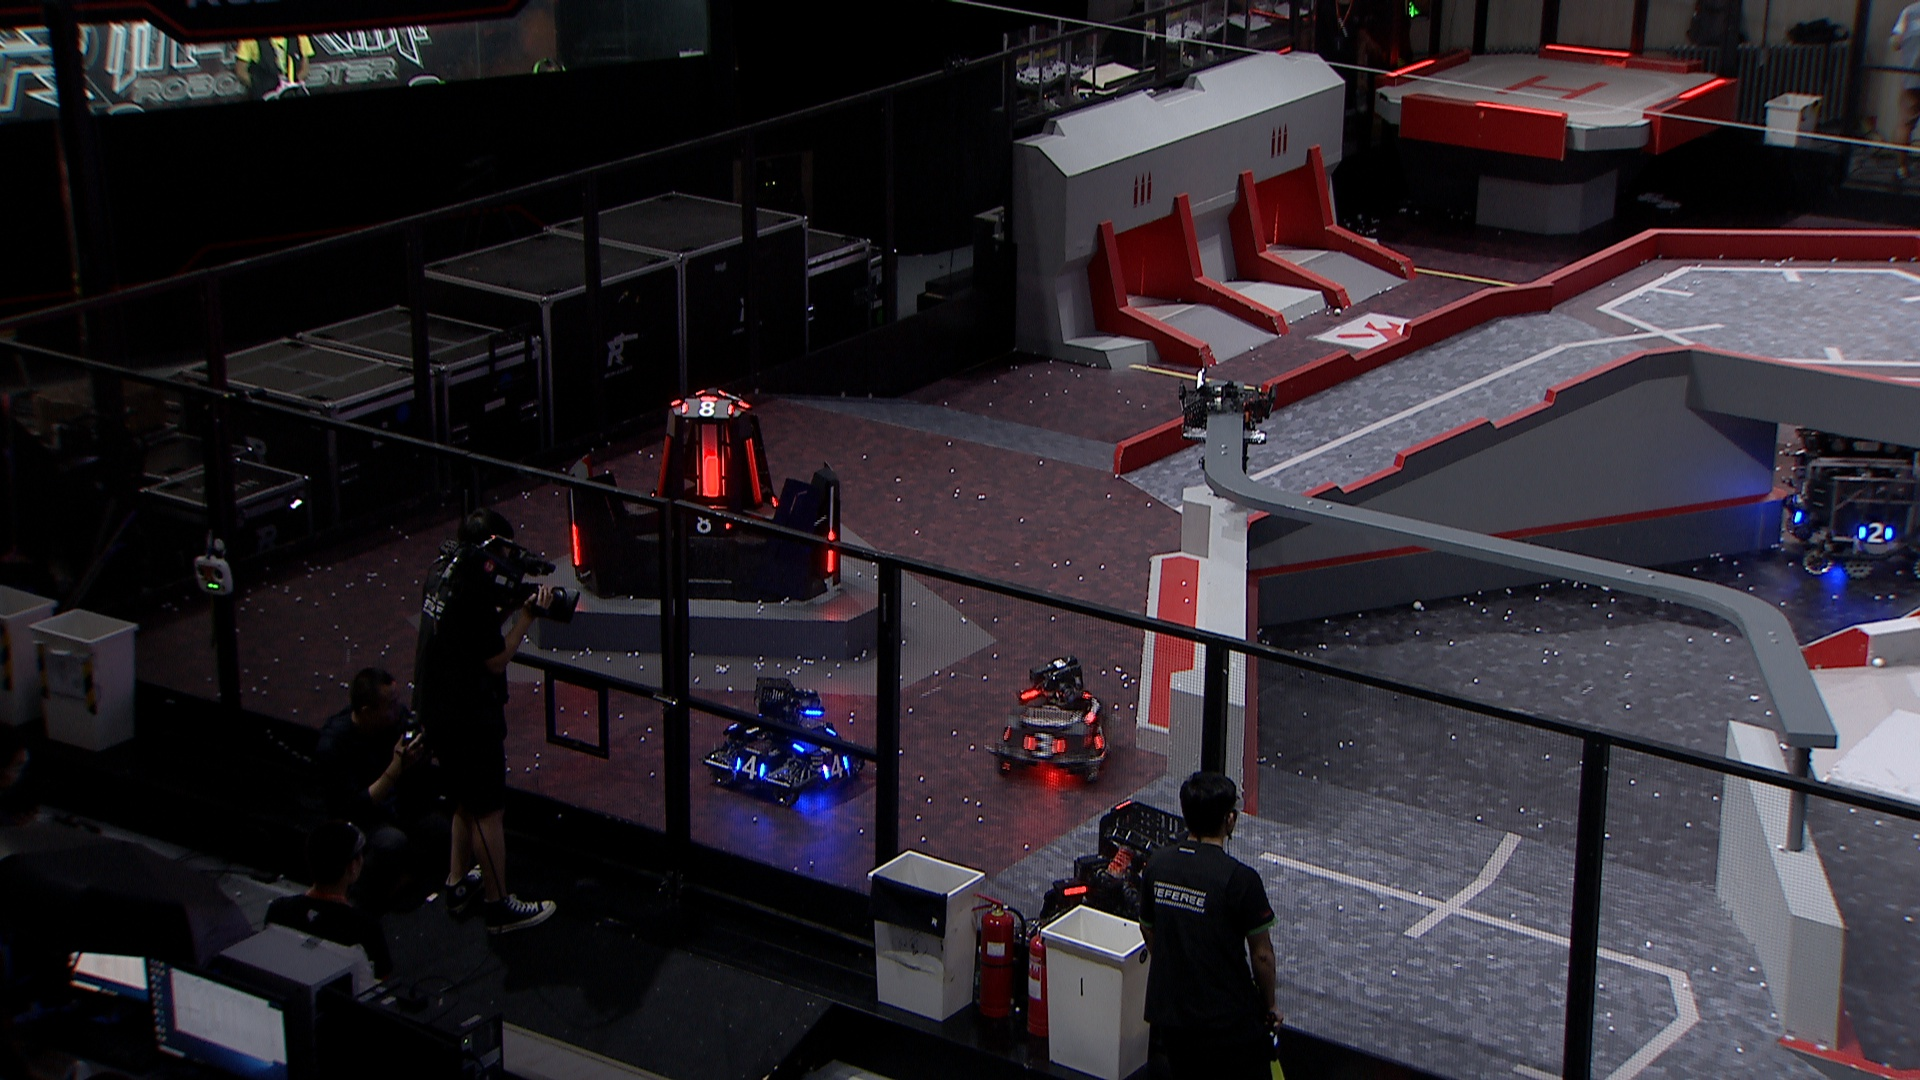armor: (679, 510, 731, 534), (655, 431, 671, 498), (745, 436, 761, 504), (702, 451, 723, 501), (1025, 733, 1062, 760), (680, 398, 732, 417), (732, 754, 767, 781), (822, 752, 849, 782), (1855, 520, 1892, 542), (823, 524, 837, 574), (568, 524, 580, 566), (1093, 721, 1106, 749)
base: (564, 381, 847, 603)
car: (1036, 798, 1215, 963), (1780, 400, 1920, 584), (707, 680, 862, 800), (986, 654, 1112, 789)
watcher: (1178, 361, 1276, 475)
